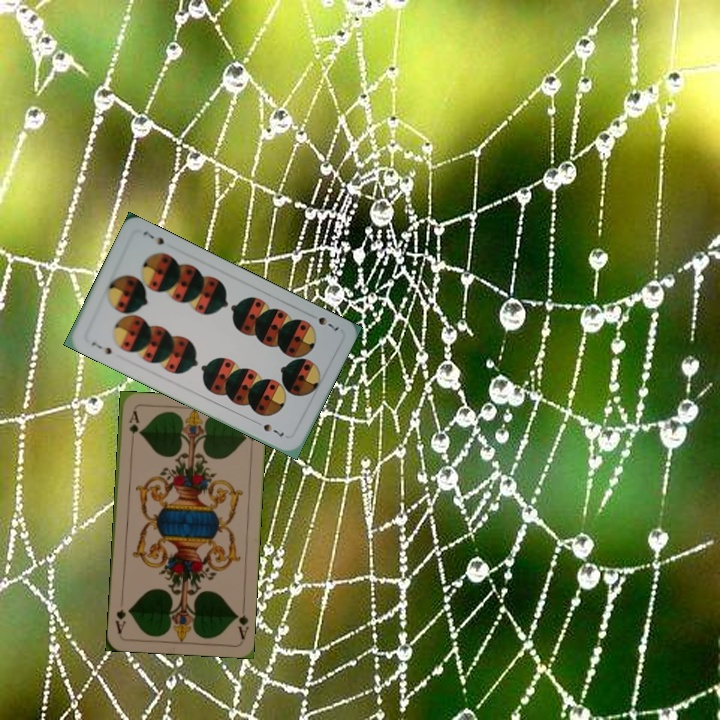GA: (231, 601, 251, 642), (125, 406, 141, 447)
S7: (314, 313, 342, 334), (87, 337, 115, 357)
